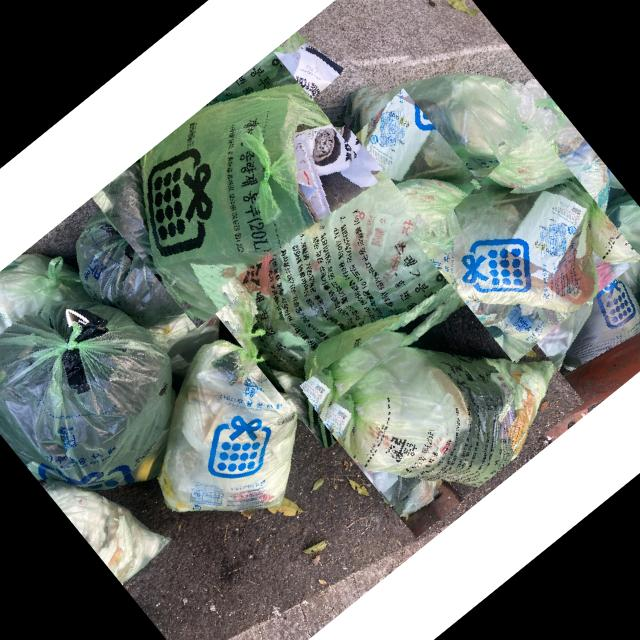general_trashbag: (192, 158, 518, 380), (138, 84, 330, 307), (347, 345, 556, 485), (429, 183, 596, 310), (351, 71, 536, 177)
